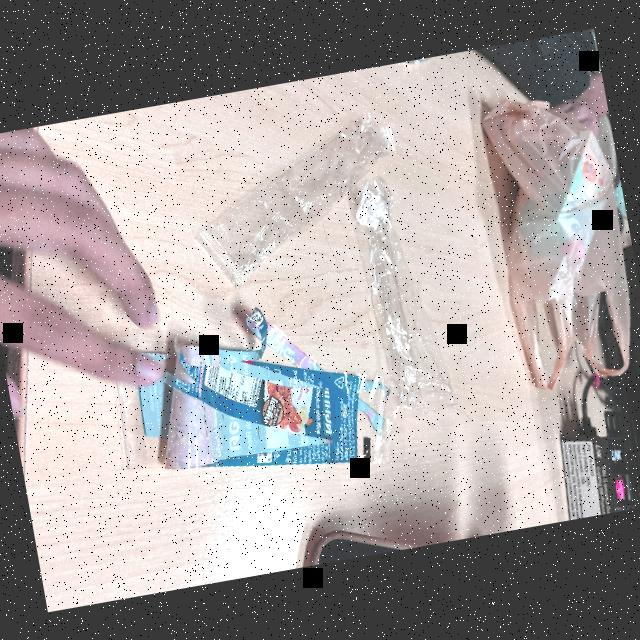scrap_plastic: (107, 298, 405, 512), (184, 94, 414, 298), (340, 176, 458, 430)
